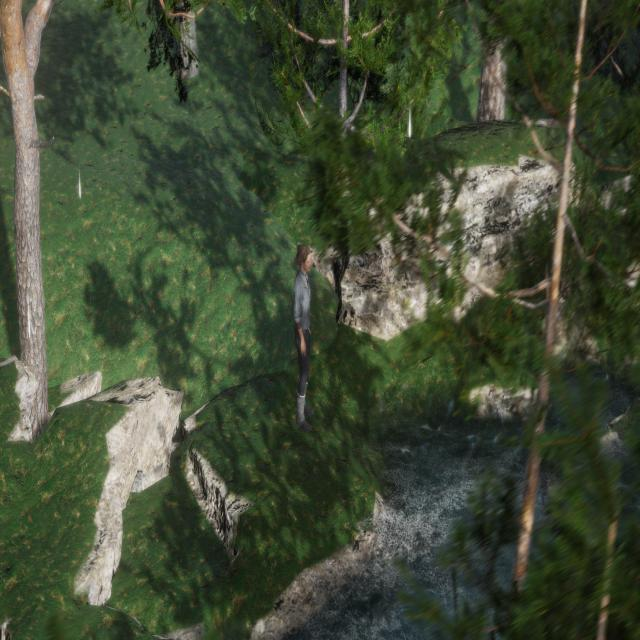Human: (290, 236, 317, 443)
